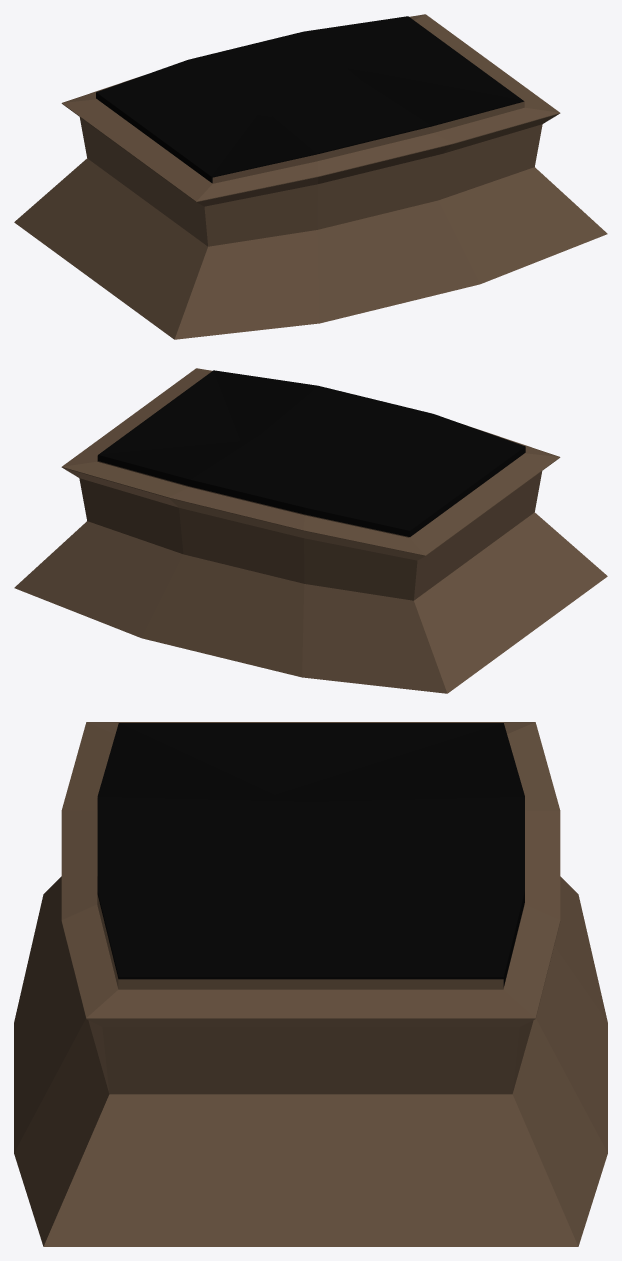
File: CryptChest.glb
The picture shows the model from 3 angles, top to bottom: view 1: azimuth 30°, elevation 25°; view 2: azimuth 150°, elevation 25°; view 3: azimuth 270°, elevation 25°; orthographic projection. The views are drawn at different scales.
Parts seen in each view (by area): view 1: chest, lid; view 2: chest, lid; view 3: chest, lid.
Part boxes in pixels (x1,y1,x2,y2): chest: (14, 14, 607, 339); lid: (96, 16, 523, 182); chest: (14, 368, 607, 693); lid: (98, 370, 525, 536); chest: (14, 722, 607, 1246); lid: (97, 723, 524, 986).
Size of the model in its own units: 3.24 by 1.05 by 2.31.
